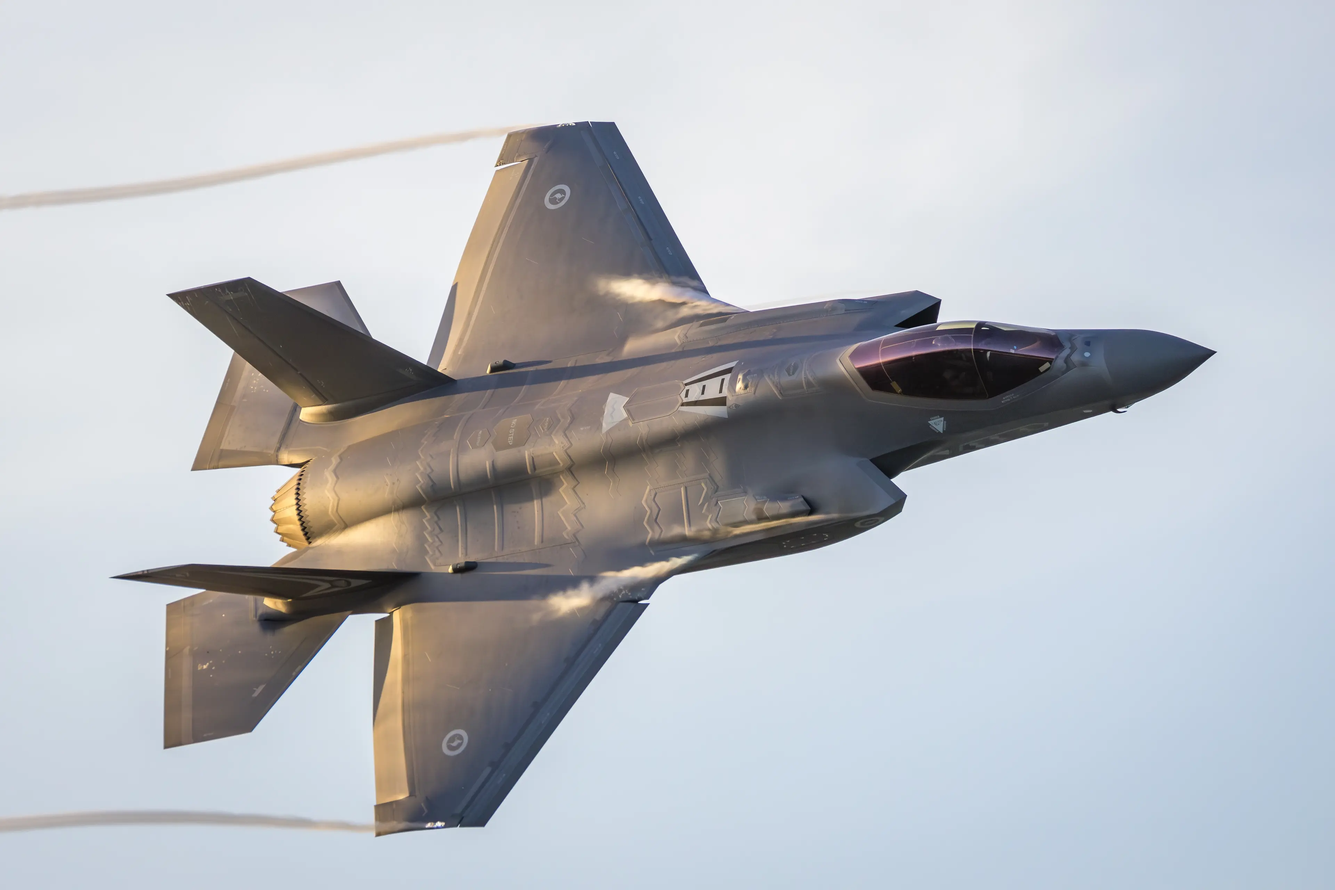F35: (103, 110, 1225, 843)
